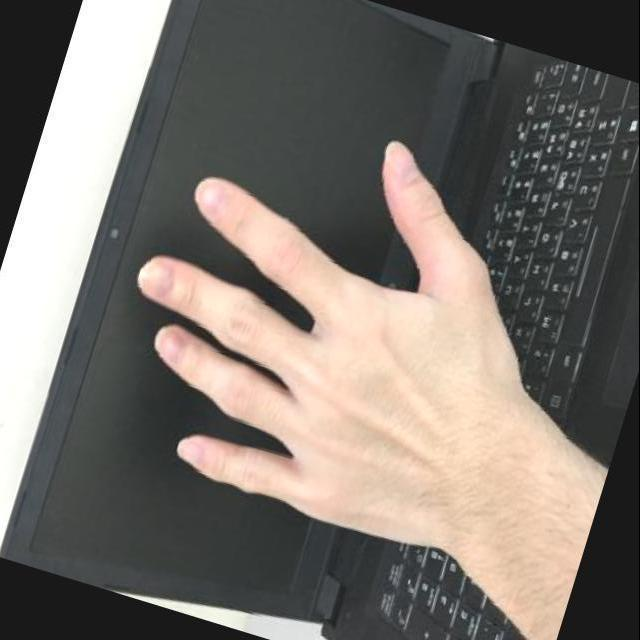hand: (59, 54, 628, 612)
